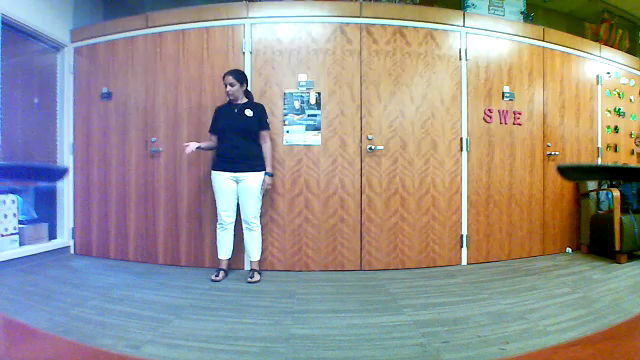land: (178, 137, 206, 159)
